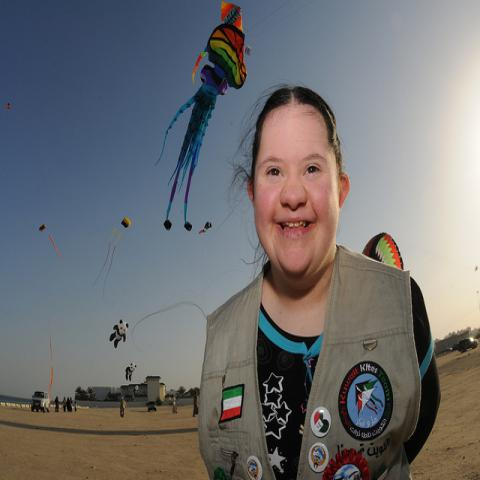car: (147, 400, 156, 411), (453, 343, 458, 350)
truck: (31, 390, 50, 412), (458, 337, 479, 353), (147, 400, 156, 412)
